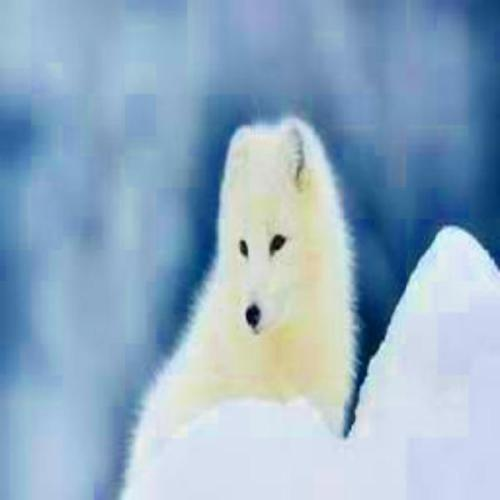arctic_fox-endangered: (134, 125, 353, 475)
